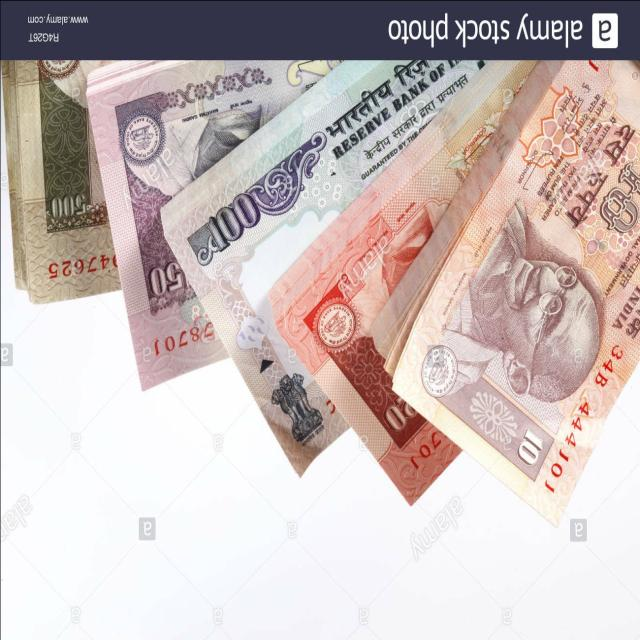10IndianRupees: (394, 61, 638, 501)
